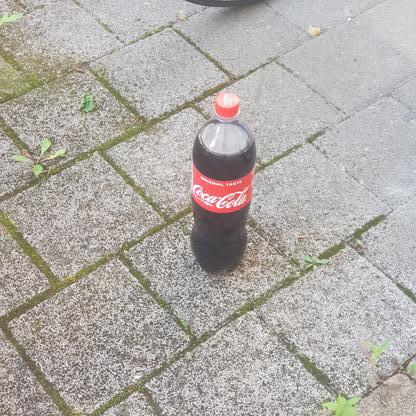coca-cola: (188, 90, 258, 281)
